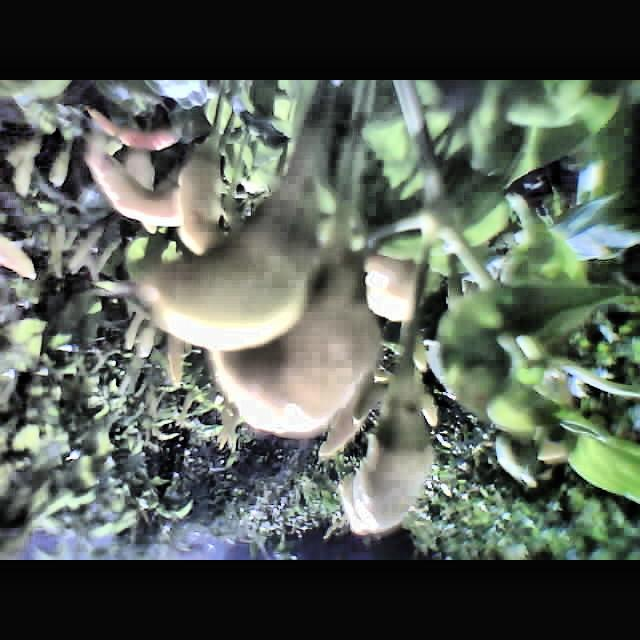Cabai: (87, 104, 196, 157)
